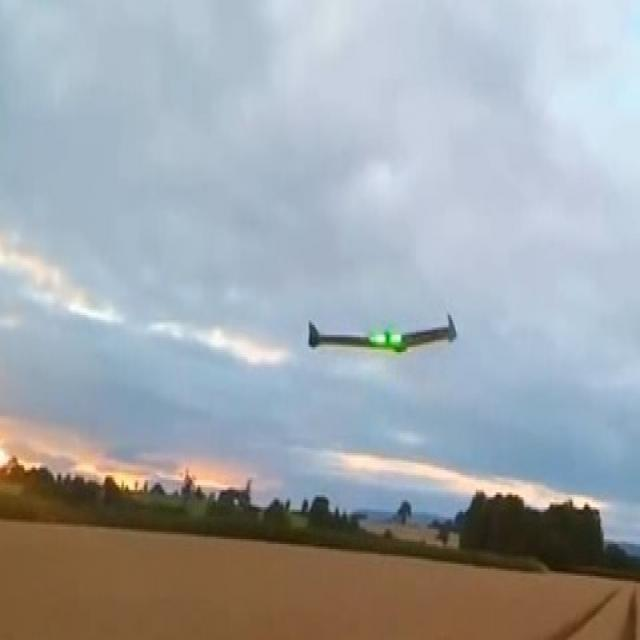Airplane: (302, 308, 461, 354)
